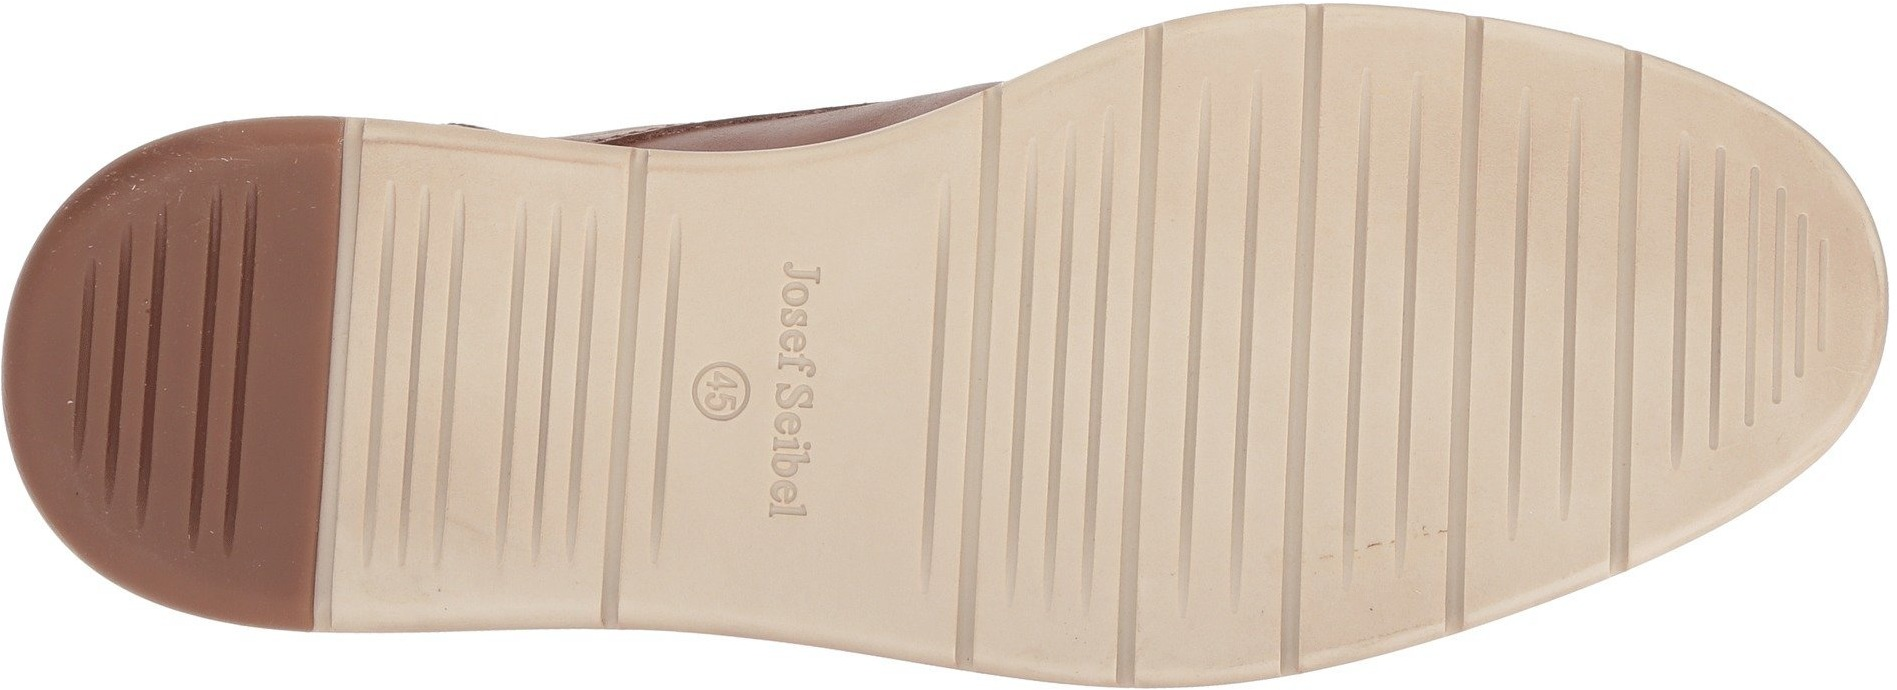circle: (742, 257, 863, 378), (682, 353, 763, 432)
line: (1309, 108, 1739, 514), (900, 163, 1320, 550), (338, 228, 690, 547), (50, 246, 283, 479)
text: (746, 373, 871, 533), (742, 257, 863, 378), (682, 353, 763, 432)
